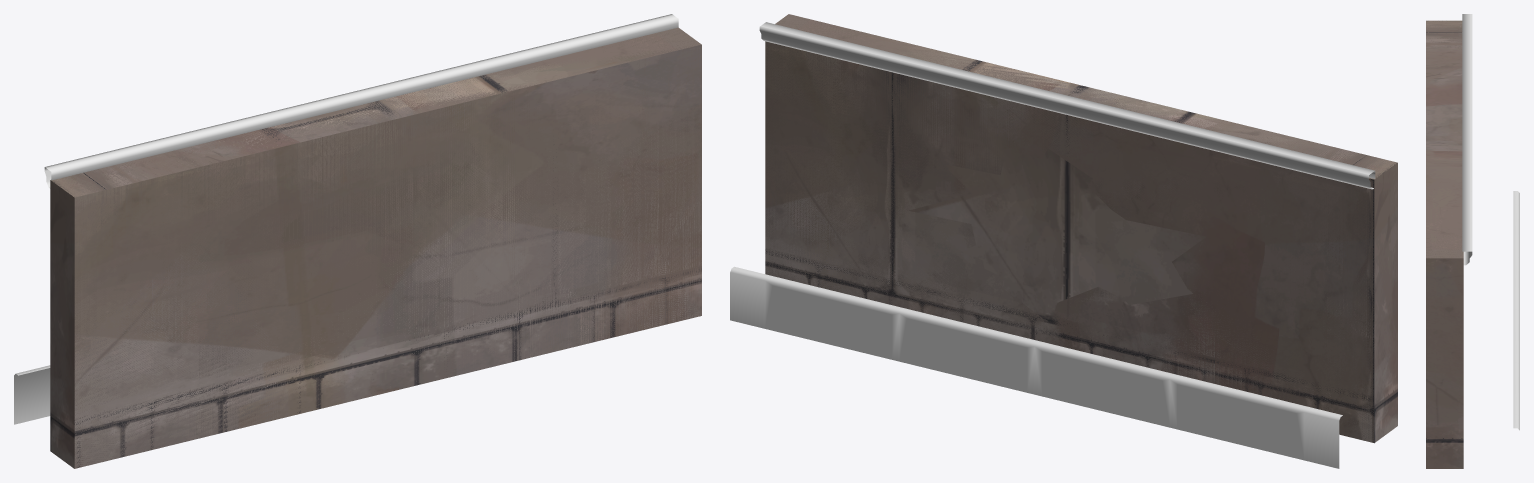
File: WallSegments.fbx
The picture shows the model from 3 angles, left to right: view 1: azimuth 30°, elevation 25°; view 2: azimuth 150°, elevation 25°; view 3: azimuth 270°, elevation 25°; orthographic projection. The views are drawn at different scales.
Visible parts, largest first — view 1: WallDestroyed, Wall03, WallBreak, WallLowerPanel; view 2: WallDestroyed, Wall03, WallLowerPanel, WallBreak; view 3: WallDestroyed, WallBreak, WallLowerPanel, Wall03.
Part boxes in pixels (<box>): WallDestroyed: <box>50,27,701,468</box>; Wall03: <box>53,28,701,468</box>; WallBreak: <box>44,14,678,188</box>; WallLowerPanel: <box>14,365,50,424</box>; WallDestroyed: <box>765,14,1397,443</box>; Wall03: <box>765,14,1396,442</box>; WallLowerPanel: <box>730,266,1342,468</box>; WallBreak: <box>759,22,1375,189</box>; WallDestroyed: <box>1426,20,1463,468</box>; WallBreak: <box>1462,14,1472,265</box>; WallLowerPanel: <box>1513,191,1519,430</box>; Wall03: <box>1426,21,1463,258</box>.
Size of the model in its own units: 1500 by 640 by 250.
